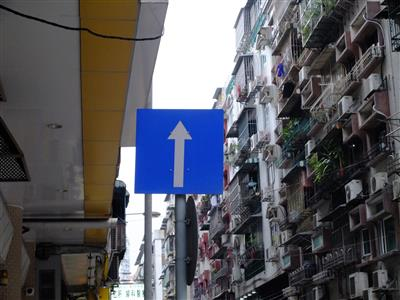oneway: (130, 102, 228, 200)
